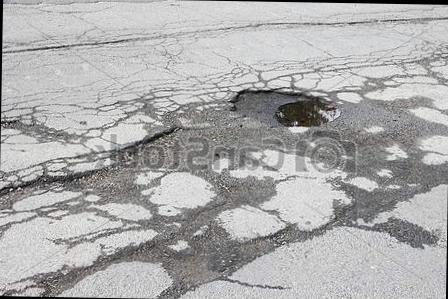pothole: (38, 102, 226, 212), (128, 211, 314, 299), (211, 60, 363, 138), (2, 95, 88, 153)
